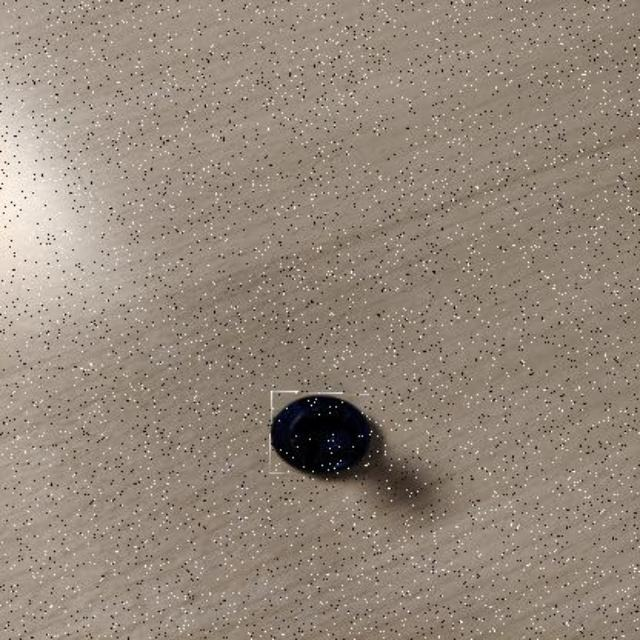black-rook: (270, 391, 371, 474)
